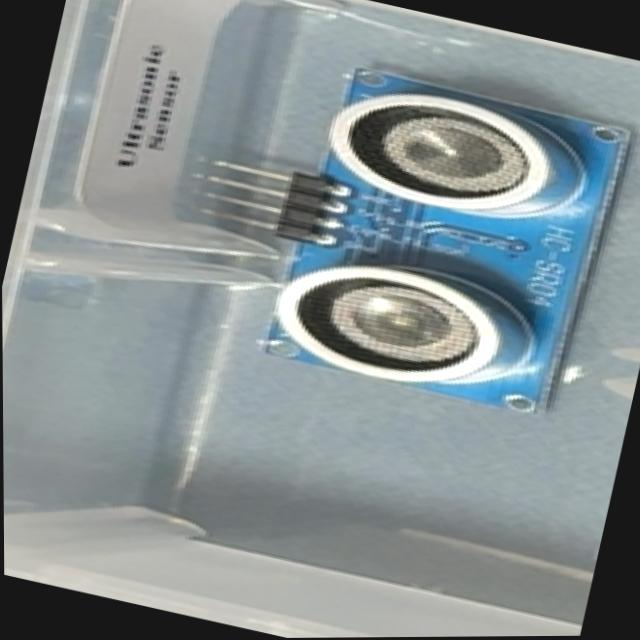Ultrasonic Sensor: (166, 28, 640, 430)
